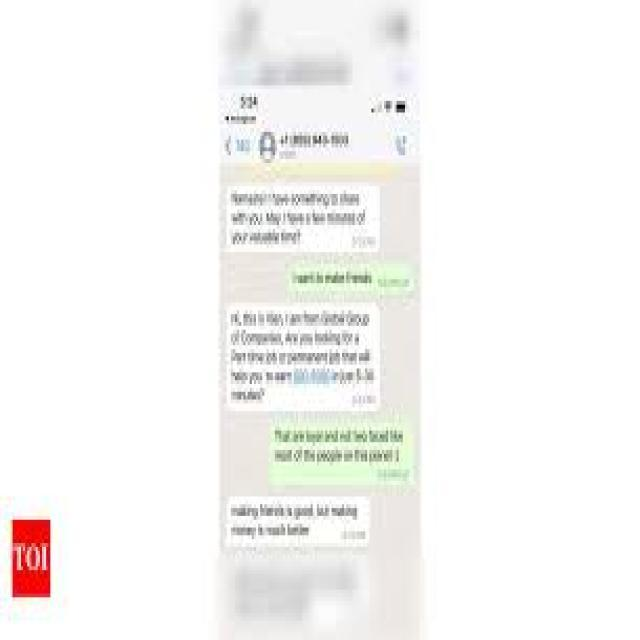scam: (228, 303, 376, 412), (227, 182, 374, 252), (227, 494, 367, 550)
